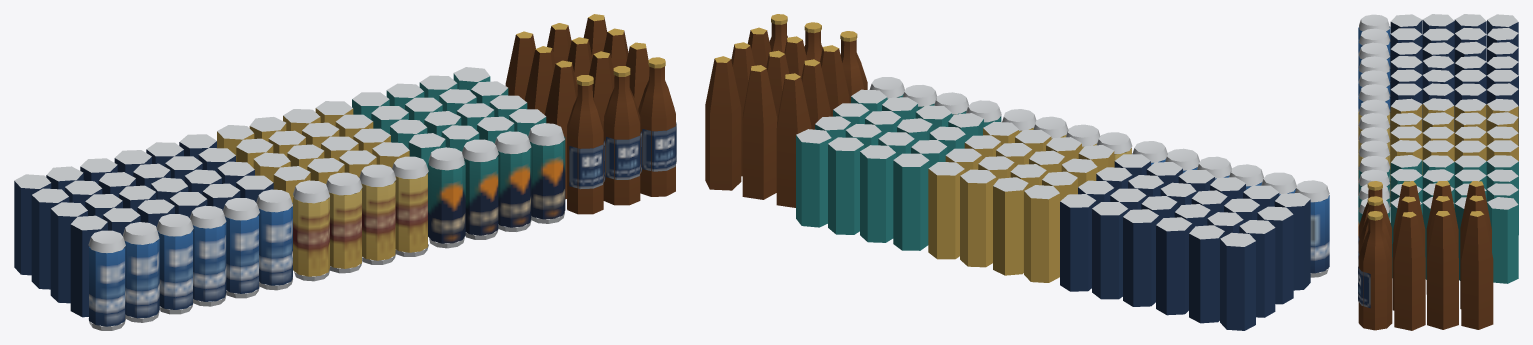
Rendered from SC_Prod_Row_Beer.gltf.
3 views of the same model, side by side, from view 1: azimuth 30°, elevation 25°; view 2: azimuth 150°, elevation 25°; view 3: azimuth 270°, elevation 25° (orthographic). The views are drawn at different scales.
Visible parts, largest first — view 1: SC_Prod_Row_Beer; view 2: SC_Prod_Row_Beer; view 3: SC_Prod_Row_Beer.
Boxes of the visible parts, box(x1,y1,x2,y2) form: SC_Prod_Row_Beer: box(14, 14, 676, 330); SC_Prod_Row_Beer: box(705, 14, 1329, 330); SC_Prod_Row_Beer: box(1358, 14, 1518, 330).
Size of the model in its own units: 1.18 by 0.248 by 0.3305.
2 materials, 2 textured.
